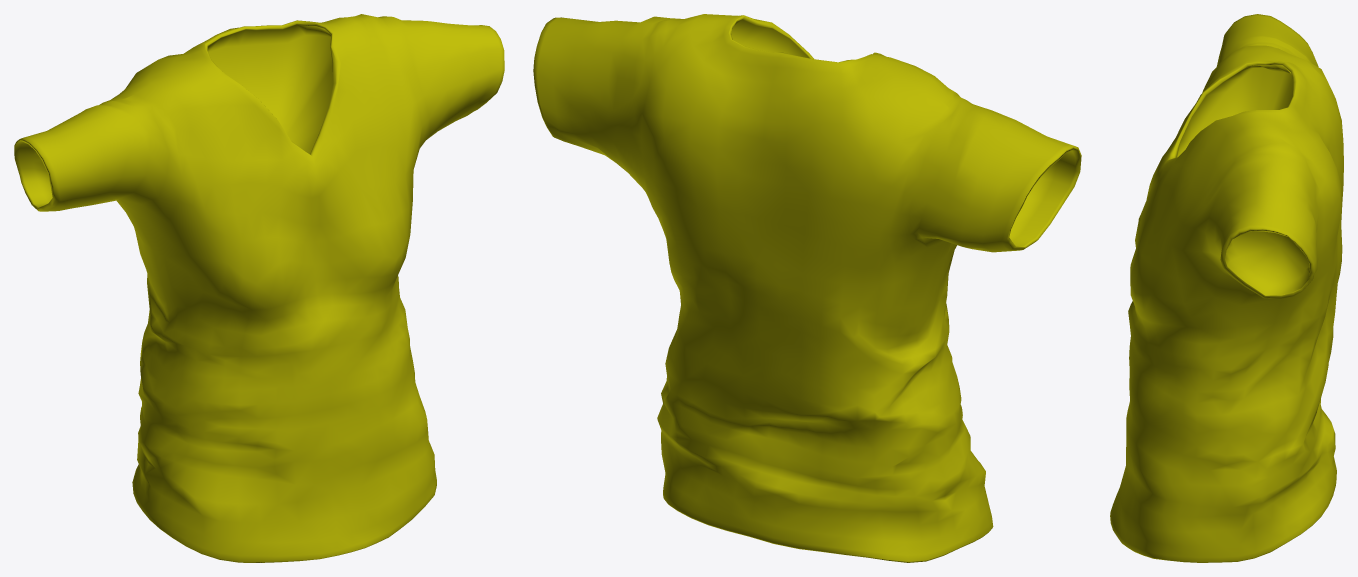
The picture shows the model from 3 angles, left to right: view 1: azimuth 30°, elevation 25°; view 2: azimuth 150°, elevation 25°; view 3: azimuth 270°, elevation 25°; orthographic projection. The views are drawn at different scales.
Visible parts, largest first — view 1: Tops; view 2: Tops; view 3: Tops.
Boxes of the visible parts, x1=… form: Tops: x1=14, y1=14, x2=504, y2=562; Tops: x1=533, y1=14, x2=1081, y2=562; Tops: x1=1110, y1=14, x2=1343, y2=562.
Size of the model in its own units: 0.6847 by 0.6477 by 0.3136.
